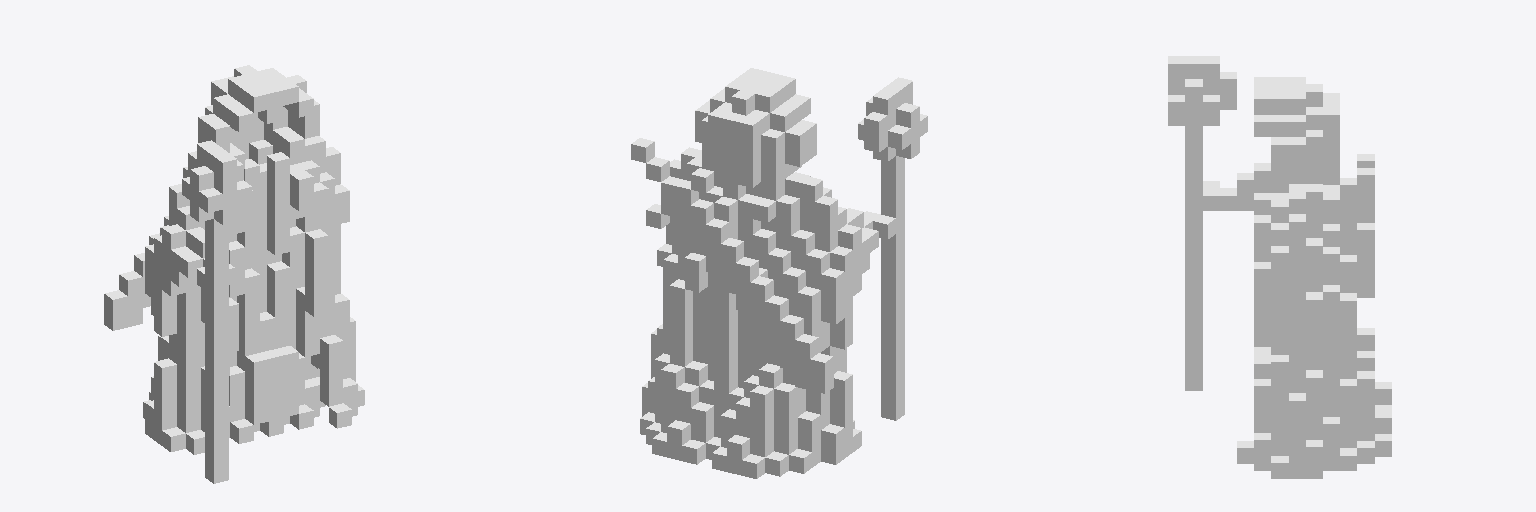
The model's file is Wizard.obj.
The picture shows the model from 3 angles: view 1: azimuth 30°, elevation 25°; view 2: azimuth 150°, elevation 25°; view 3: azimuth 270°, elevation 25°; orthographic projection.
Visible parts, largest first — view 1: Wizzerd; view 2: Wizzerd; view 3: Wizzerd.
Part boxes in pixels (bbox=[...]): Wizzerd: bbox=[104, 65, 364, 483]; Wizzerd: bbox=[631, 68, 927, 478]; Wizzerd: bbox=[1168, 56, 1391, 478].
Size of the model in its own units: 14 by 22 by 13.